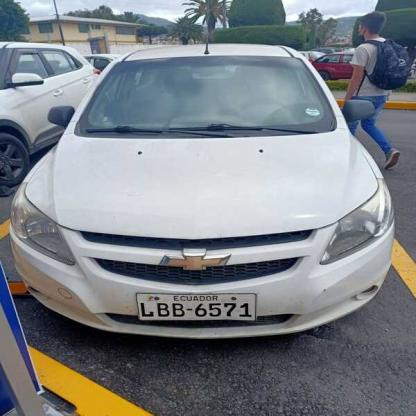Placa: (136, 291, 258, 328)
